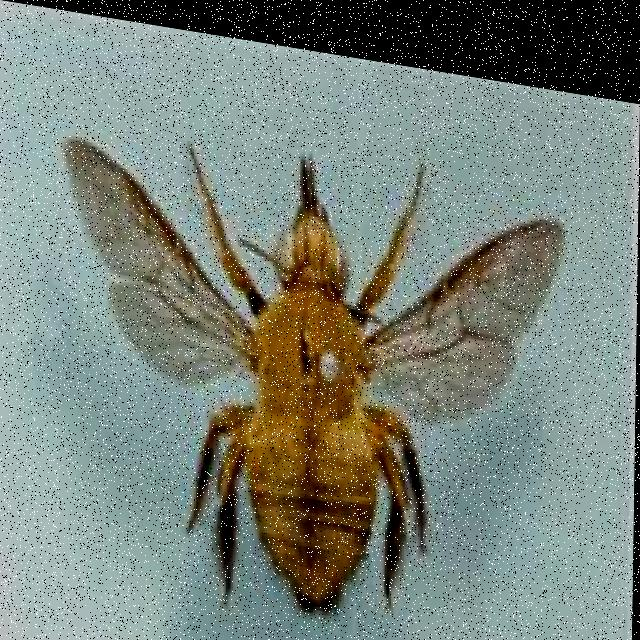Xylocopa: (53, 79, 581, 634)
